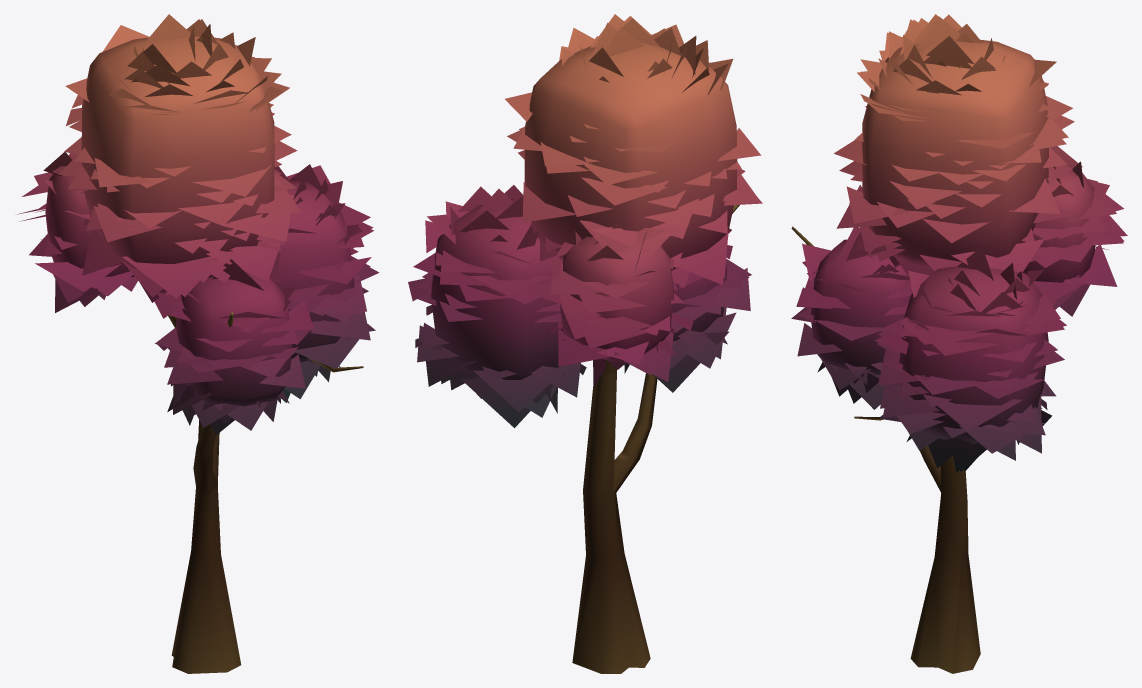
The model's file is Tree_5J.fbx.
3 renders of one model, left to right at view 1: azimuth 30°, elevation 25°; view 2: azimuth 150°, elevation 25°; view 3: azimuth 270°, elevation 25°, orthographic. The views are drawn at different scales.
Visible parts, largest first — view 1: Tree_5J; view 2: Tree_5J; view 3: Tree_5J.
Part boxes in pixels (x1,y1,x2,y2): Tree_5J: [17, 14, 379, 673]; Tree_5J: [408, 14, 762, 673]; Tree_5J: [791, 14, 1127, 673].
Size of the model in its own units: 5.27 by 10.49 by 5.19.
